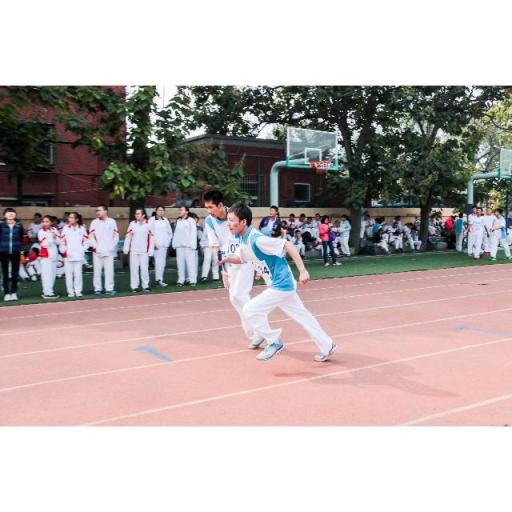Running: (214, 196, 352, 374)
